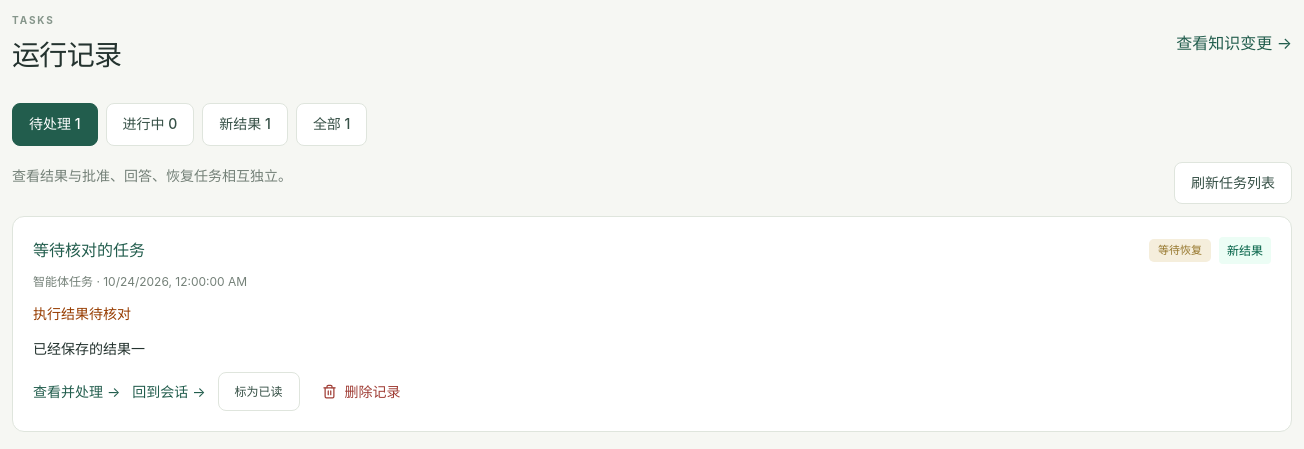
it: acknowledges only the displayed version and leaves a newer result unread without recovering execution
Check: the text "已经保存的结果一" is shown, box [33,340,145,357]
Click the button "标为已读".
click(259, 392)  # box [218,372,300,411]
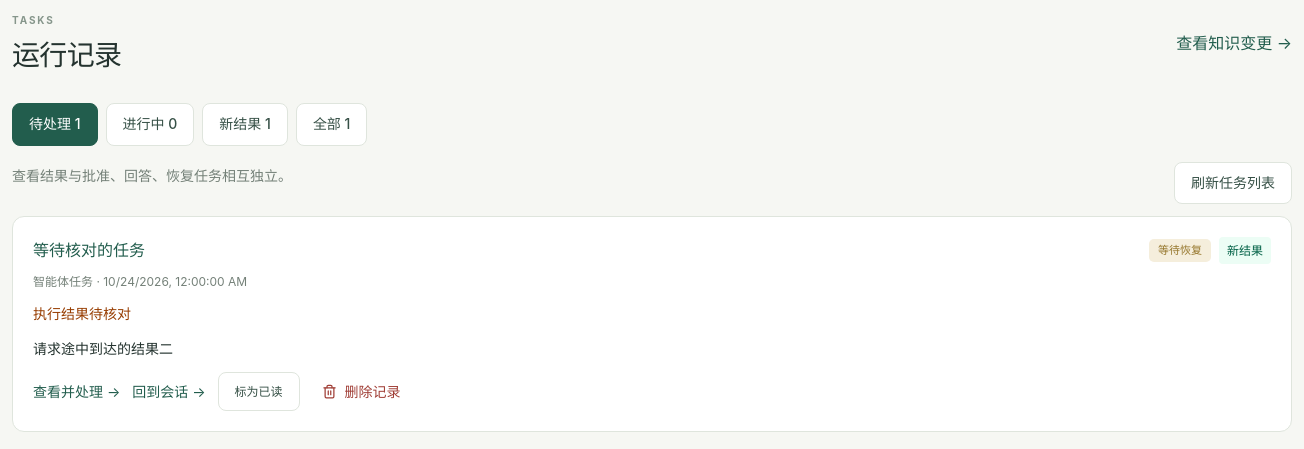
Check: the text "执行结果待核对" is shown, box [33,305,131,322]
Check: the text "请求途中到达的结果二" is shown, box [33,340,173,357]
